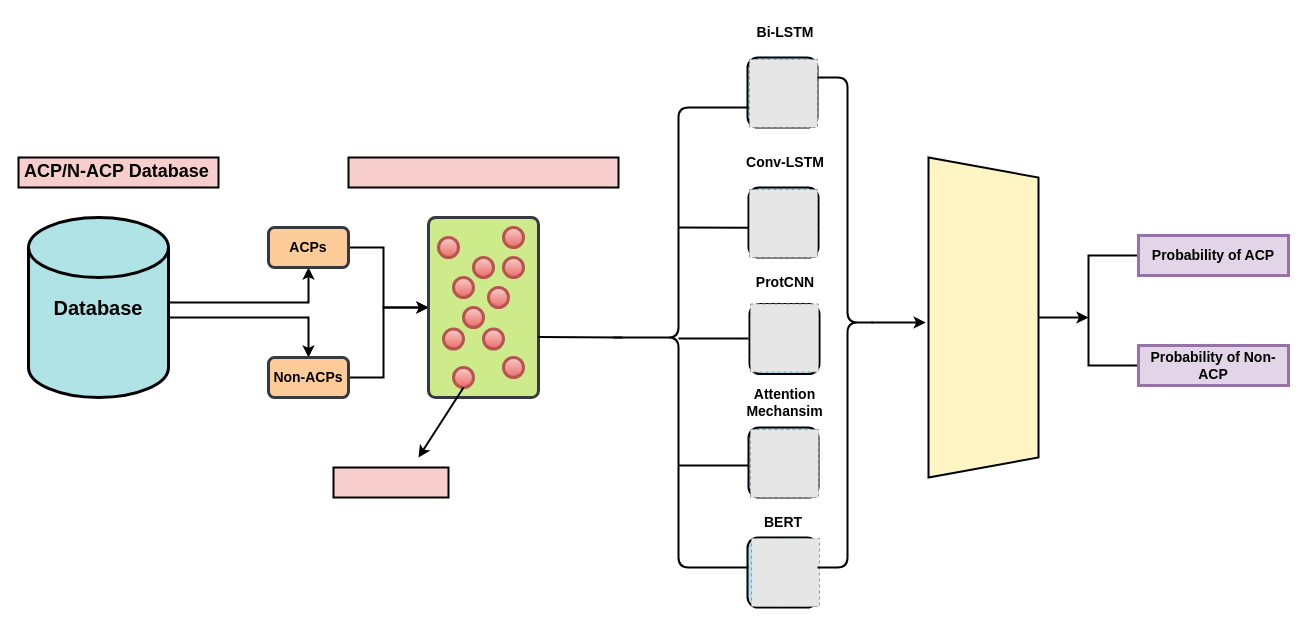
The diagram is 1307 pixels wide and 625 high, and some of its shapes have lost their labels. Grey dashed boxes stand in for pictures. The centre of each missing label's shape, as x and y in pixels:
Data points: point (390, 482)
Encoded/Tokenized Features: point (483, 172)
Soft Voting: point (983, 317)
